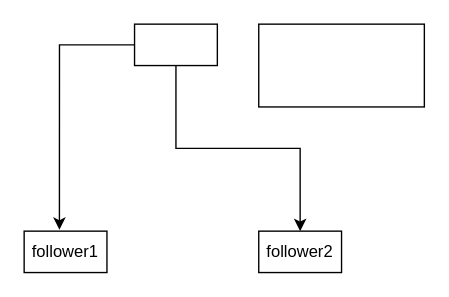
Some shapes in this 449 by 297 pixel diagram are drawn without their labels. The centre of each missing label's shape, as x and y in pixels:
leader: the point at 175,44
log_store: the point at 340,65
